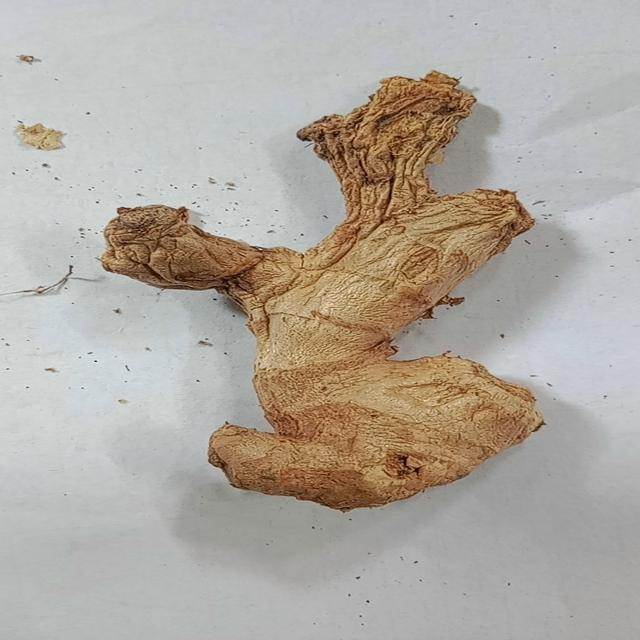ginger: (202, 220, 536, 514), (304, 80, 494, 210)
